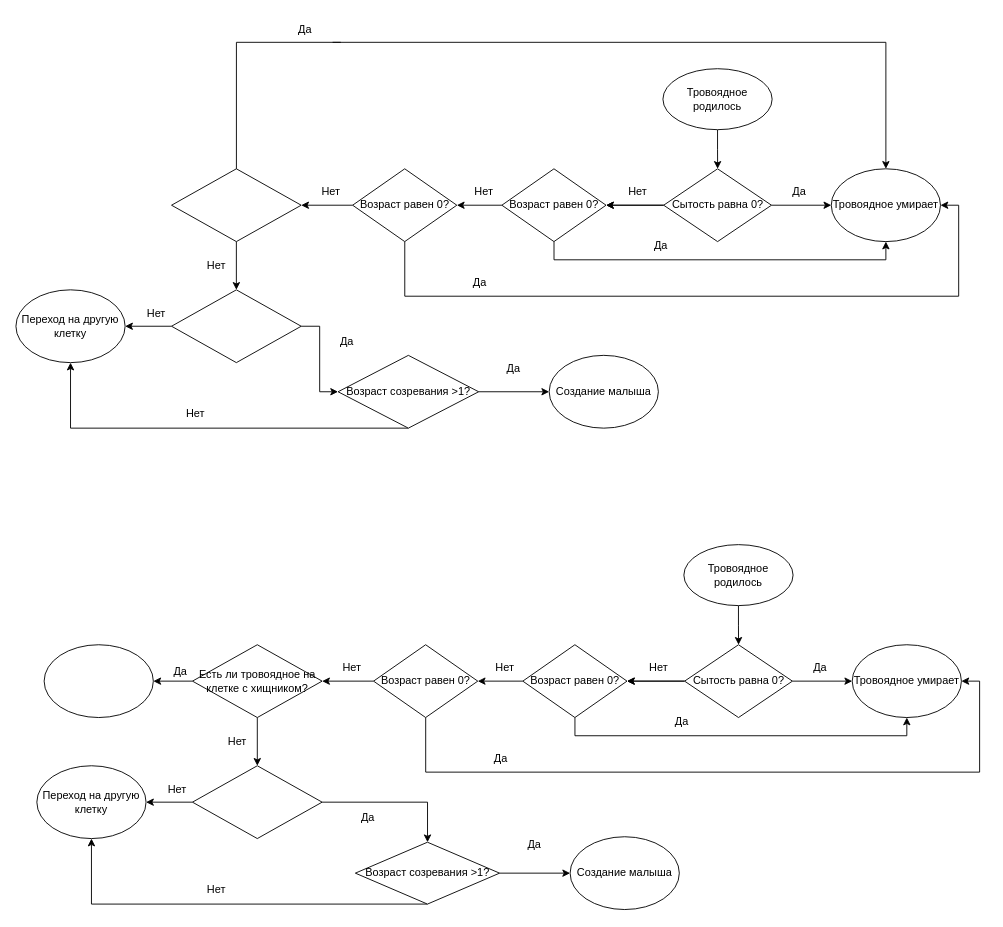
Some shapes in this 1003 by 927 pixel diagram are drawn without their labels. The centre of each missing label's shape, as x and y in pixels:
Есть ли такой же тип тровоядного на клетке?: (x=236, y=326)
Есть ли такой же тип хищника на клетке?: (x=257, y=802)
Есть ли хищник на клетке с тровоядным?: (x=236, y=205)
Съедает тровоядное, восполняет сытость: (x=98, y=681)
